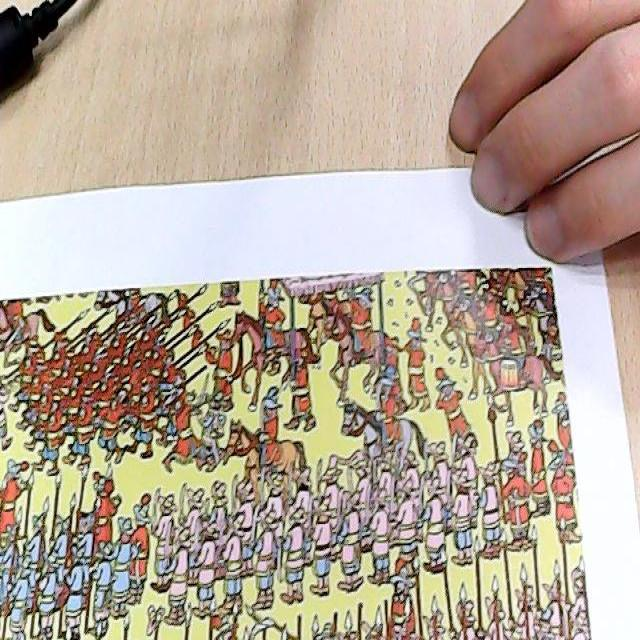waldo: (74, 504, 91, 541)
